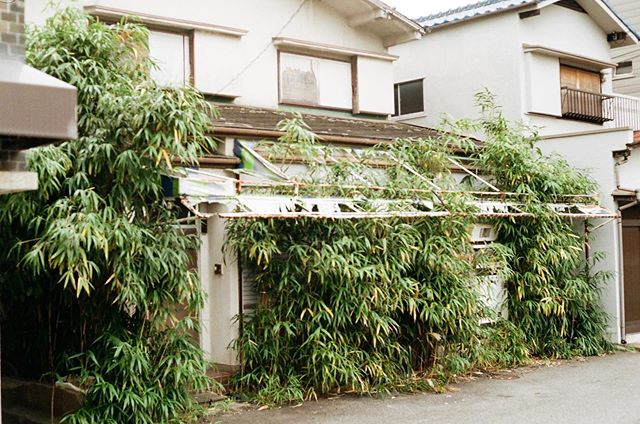building: (80, 3, 503, 363), (441, 11, 640, 323)
vegetation: (30, 32, 204, 419), (259, 186, 590, 376)
